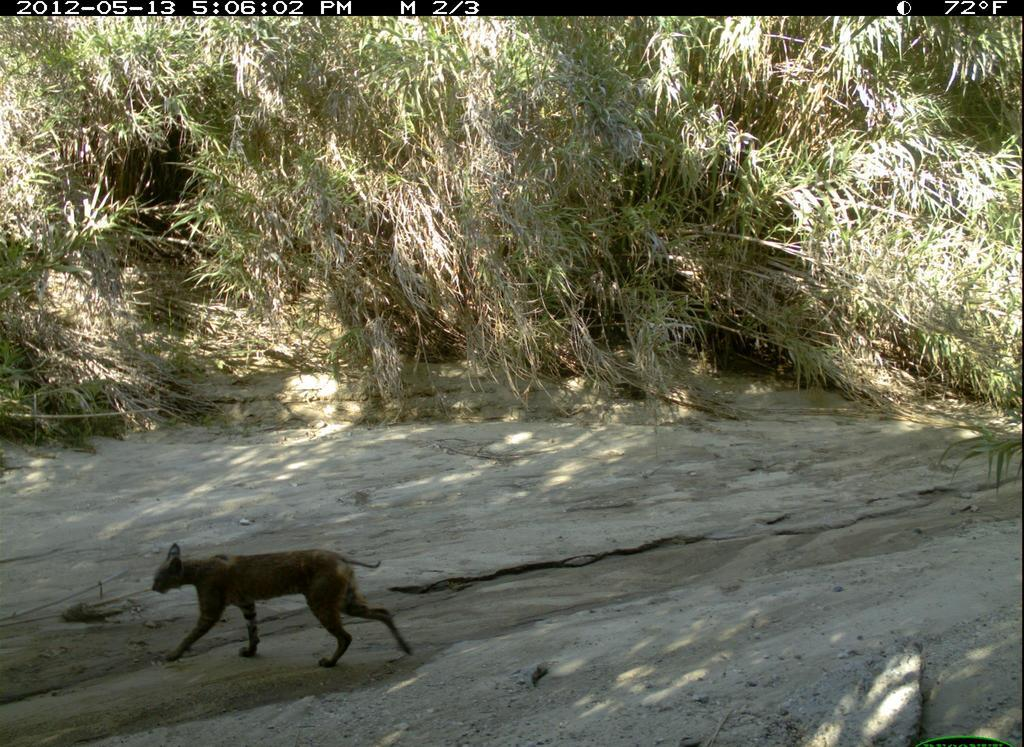bobcat: (140, 533, 425, 685)
